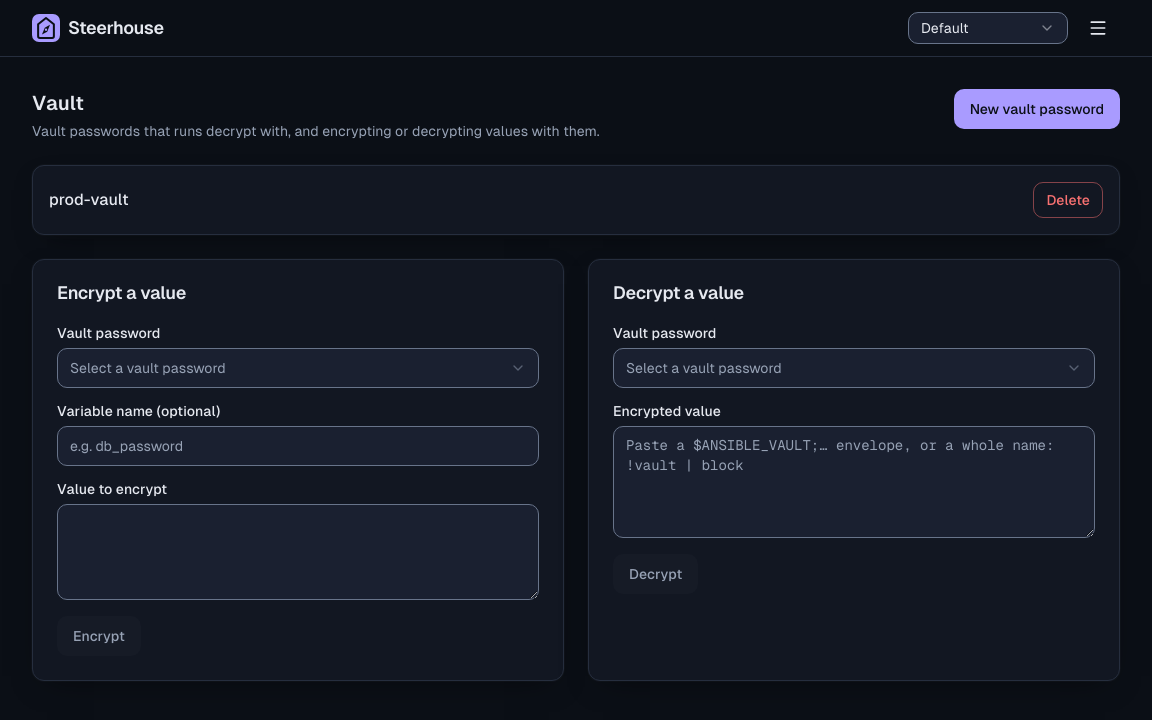
vault › deletes a vault password and shows refused creates
Click the button "New vault password".
click(1037, 109)  # box [954,89,1120,129]
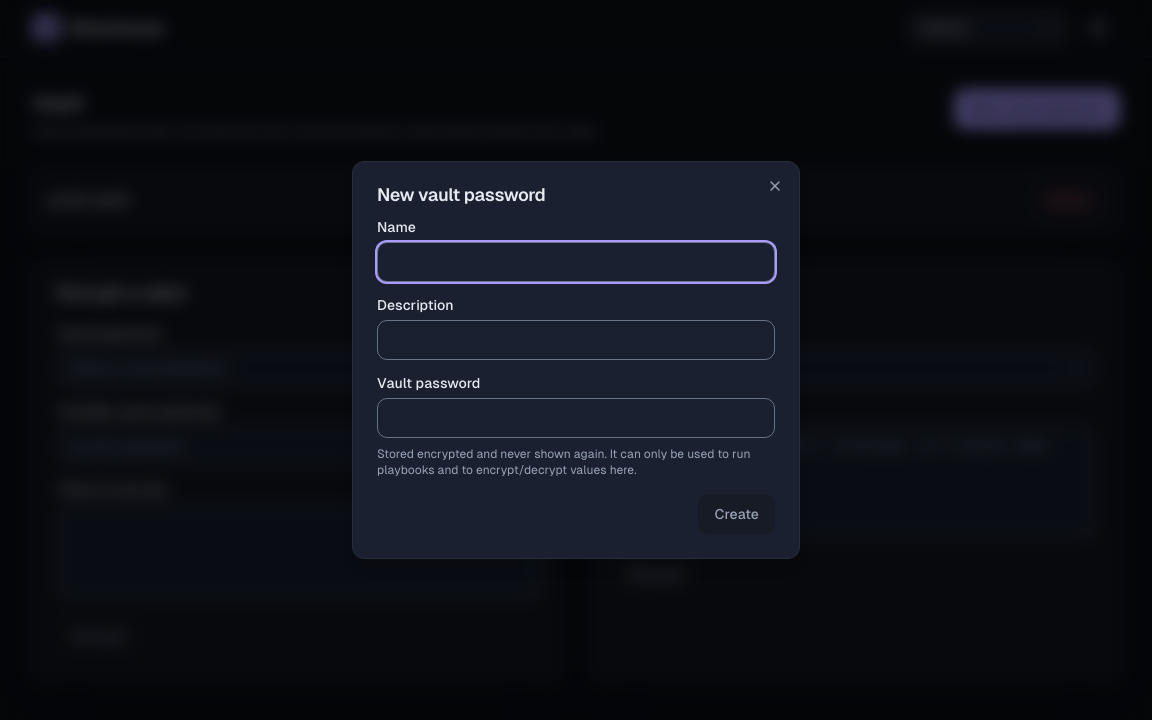
Type "prod-vault" into the field labelled "Name".
click(576, 262); type("prod-vault")  # box [377,242,775,282]
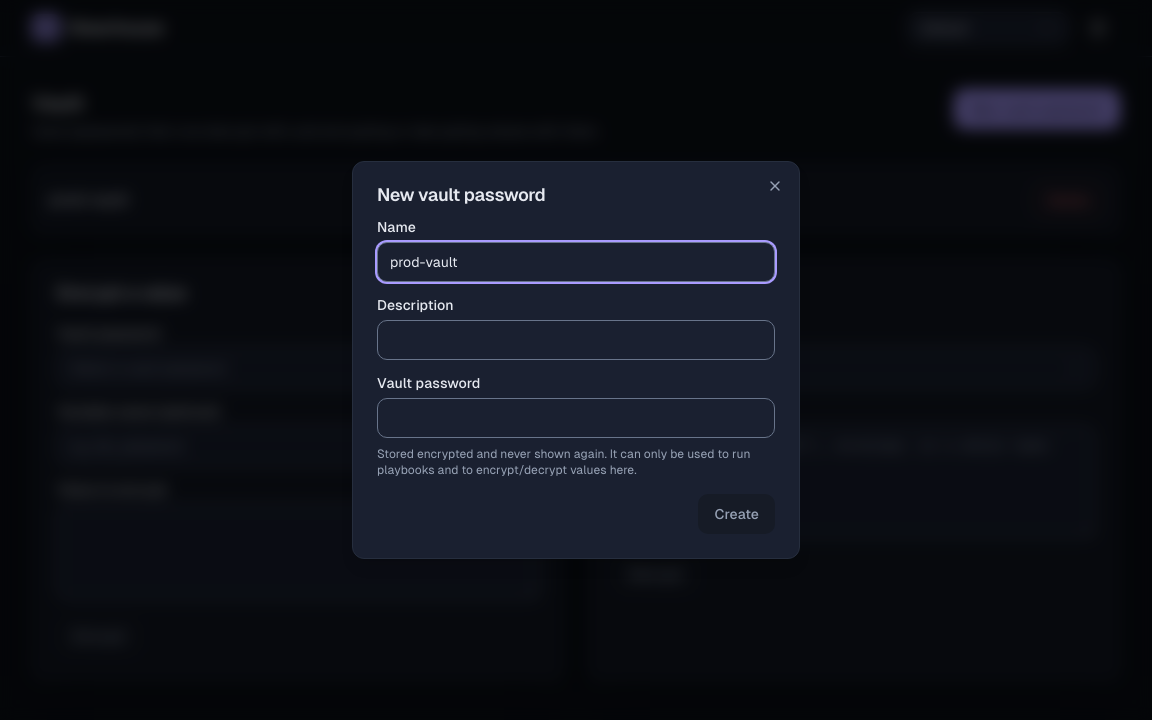
Type "x" into the password field labelled "Vault password".
click(576, 418); type("x")  # box [377,398,775,438]
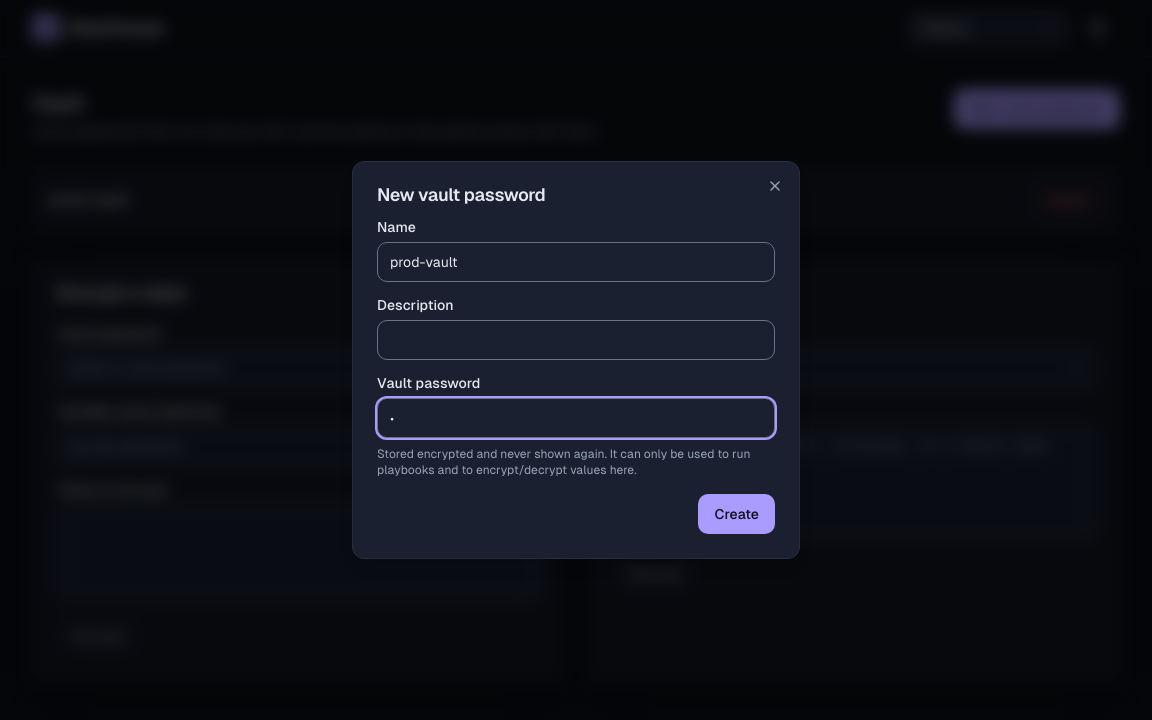
Click the button "Create".
click(737, 514)  # box [698,494,775,534]
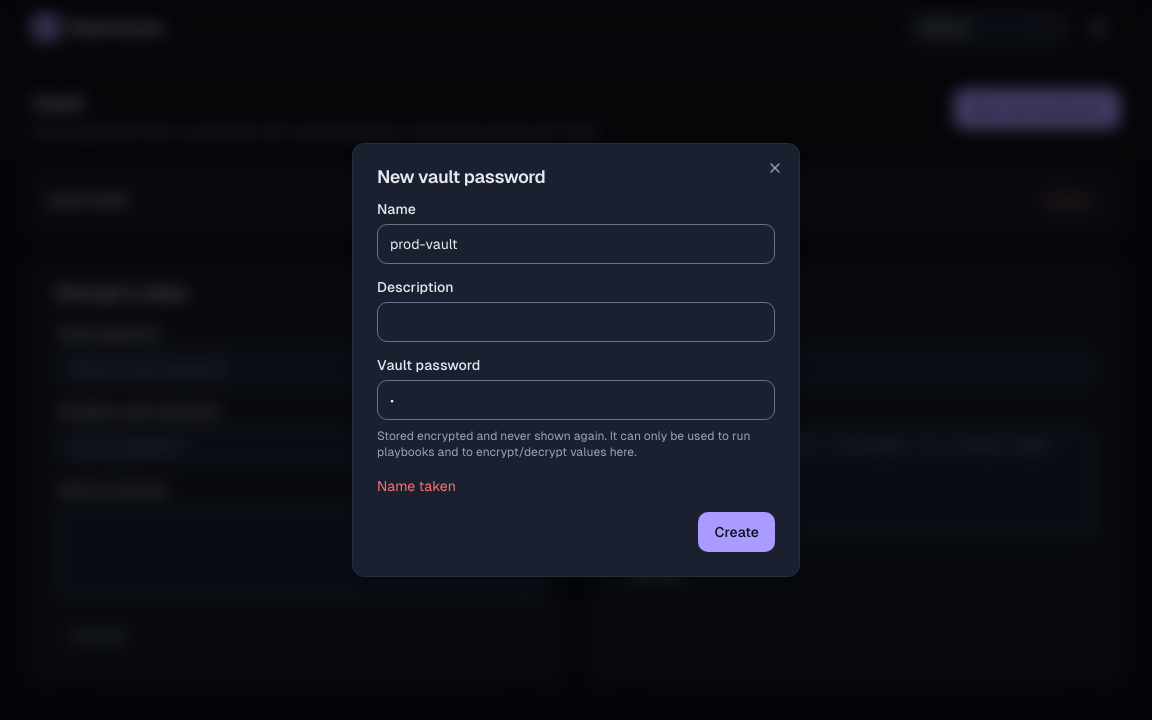
Check: the text "Name taken" is shown, box [377,478,456,494]
Press Escape
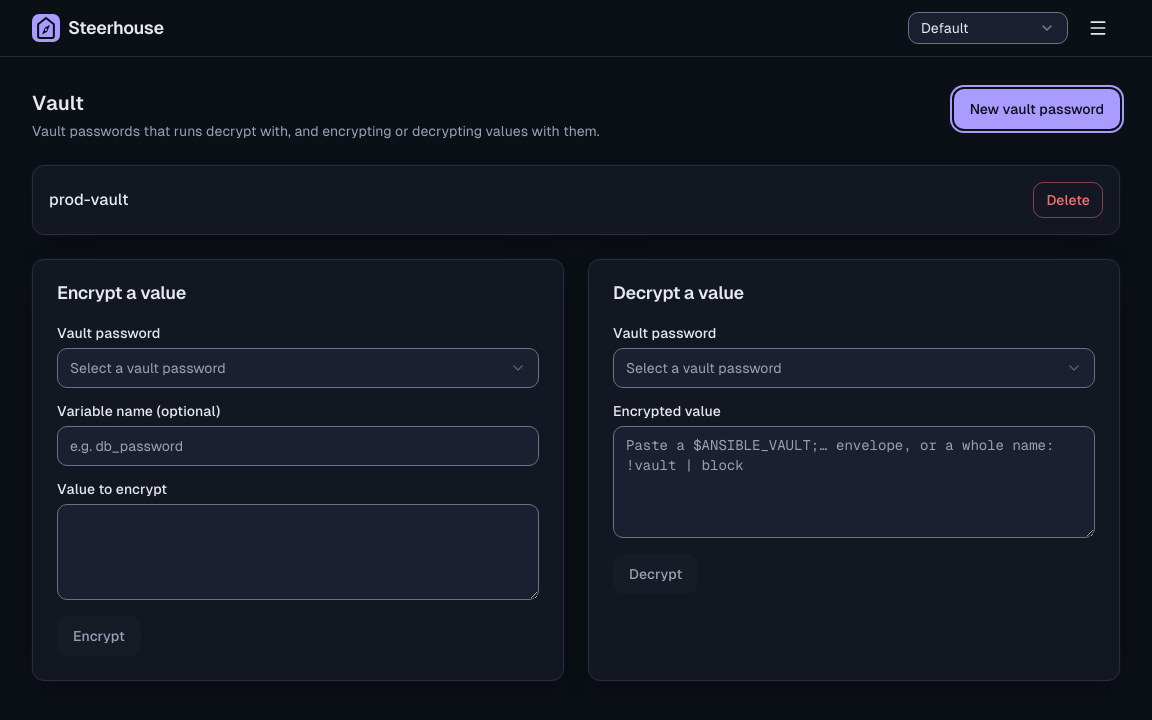
Click the button "Delete".
click(1068, 200)  # box [1033,182,1103,218]
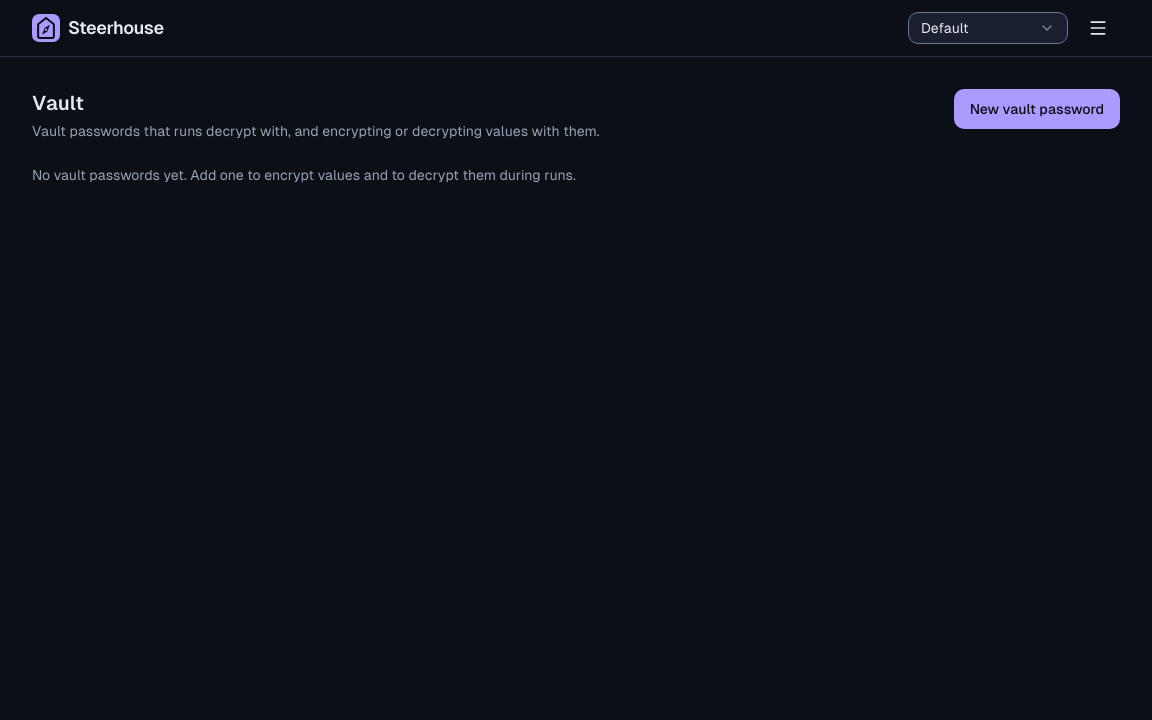
Check: the text "No vault passwords yet" is shown, box [32,167,576,183]
